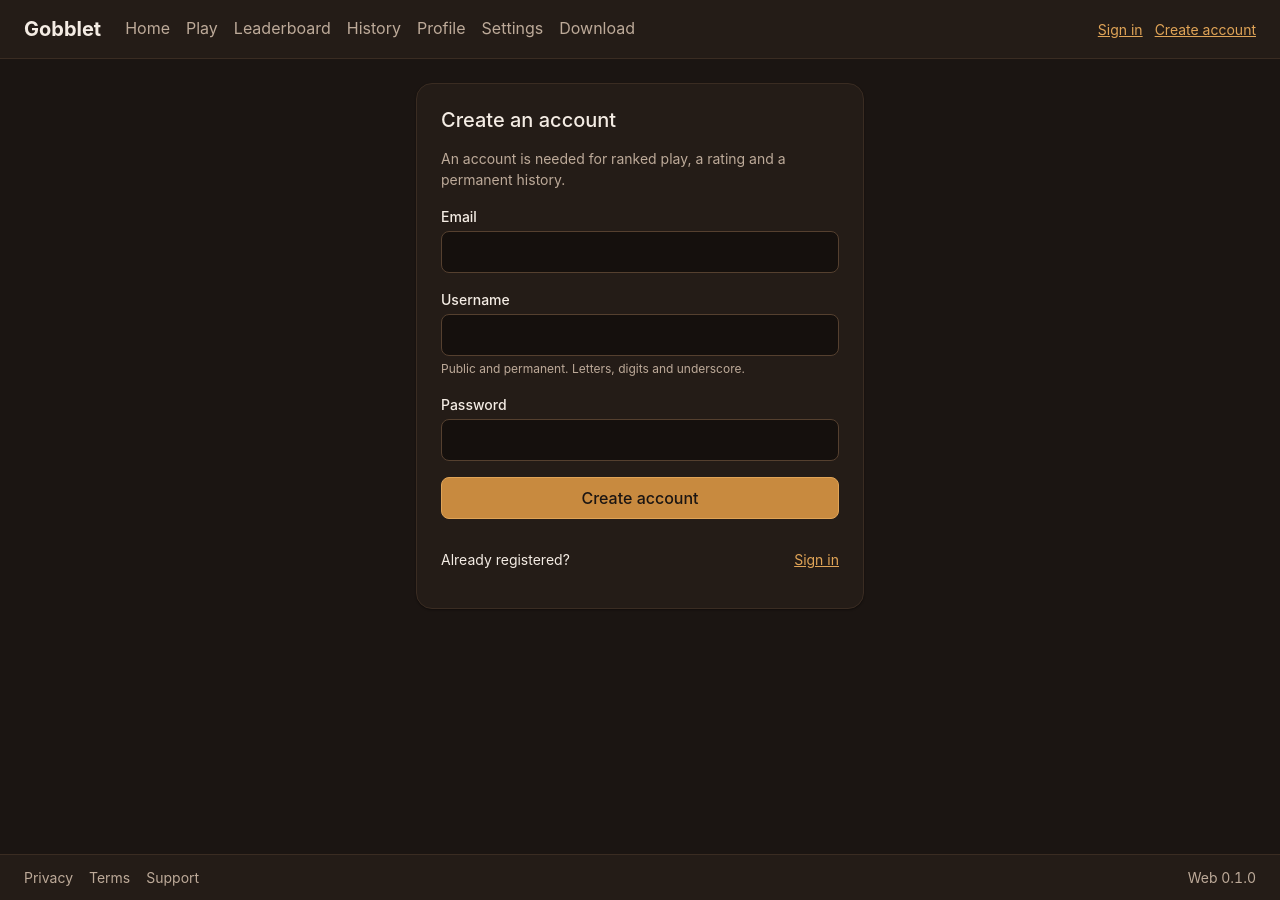
Scenario: registration › names only the field that is wrong
Type "ada@example.com" into the field labelled "Email" at (640, 252), box [441,231,839,273]
Type "ada" into the field labelled "Username" at (640, 335), box [441,314,839,356]
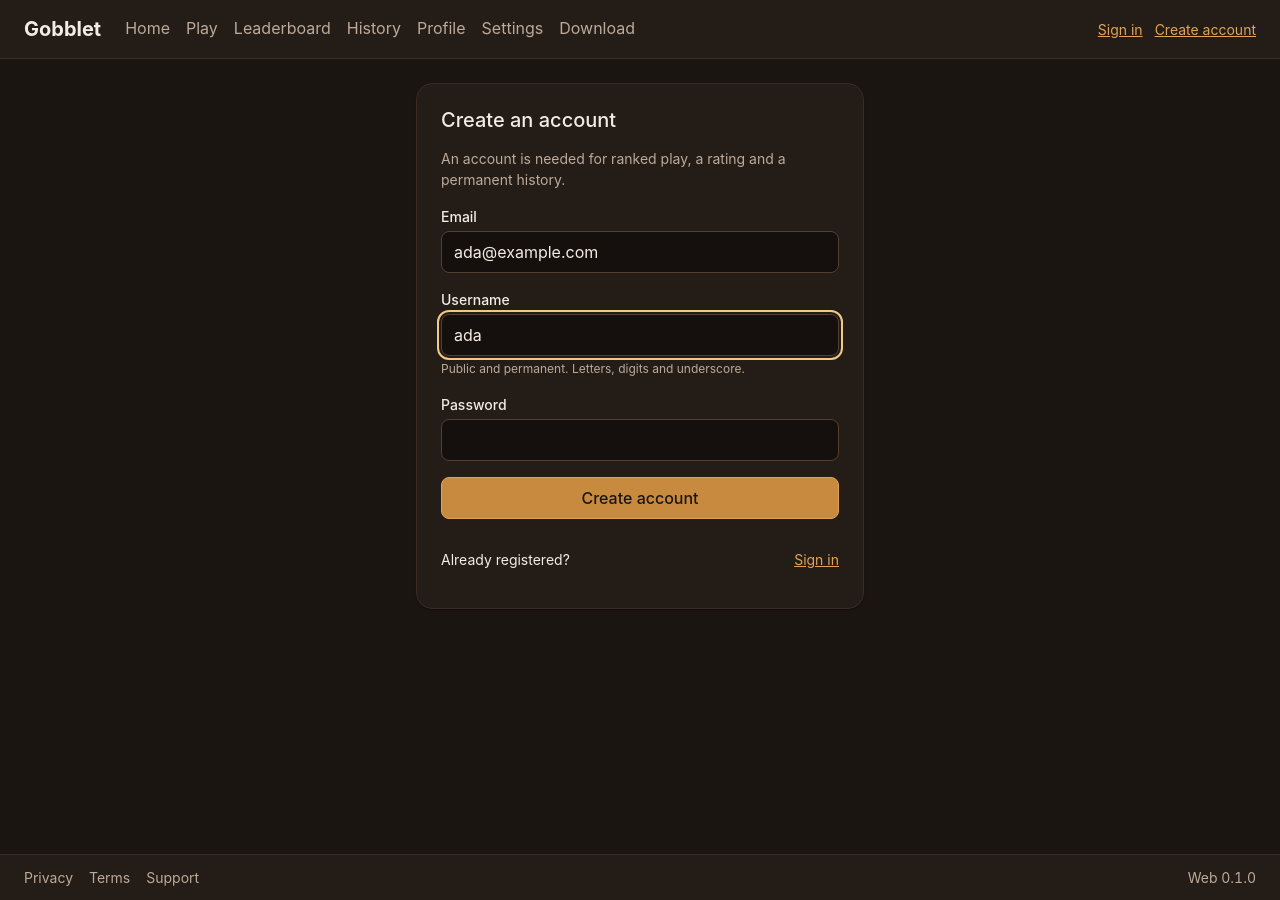
Type "tiny" into the password field labelled "Password" at (640, 440), box [441,419,839,461]
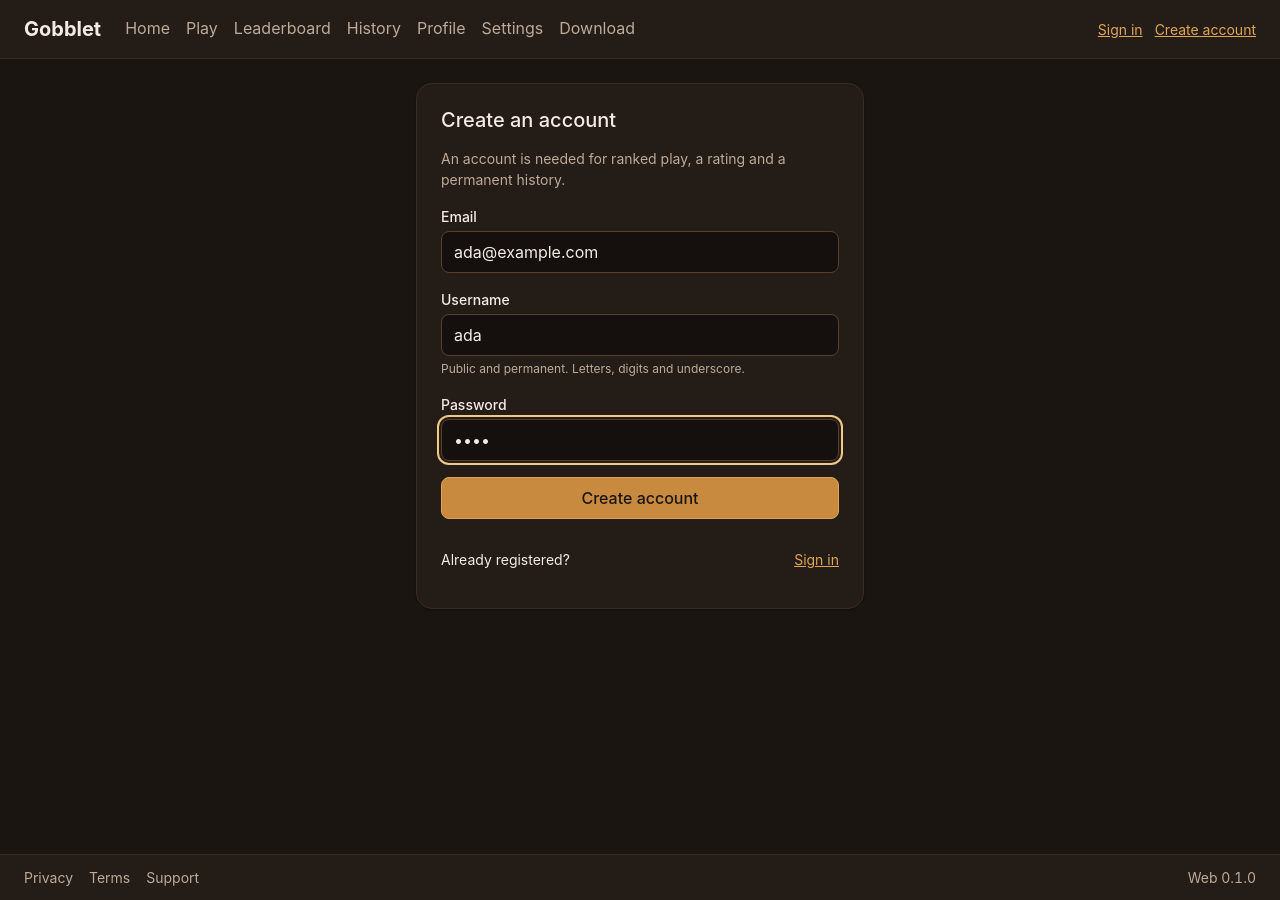
Click the button with test id "register-submit" at (640, 498), box [441,477,839,519]
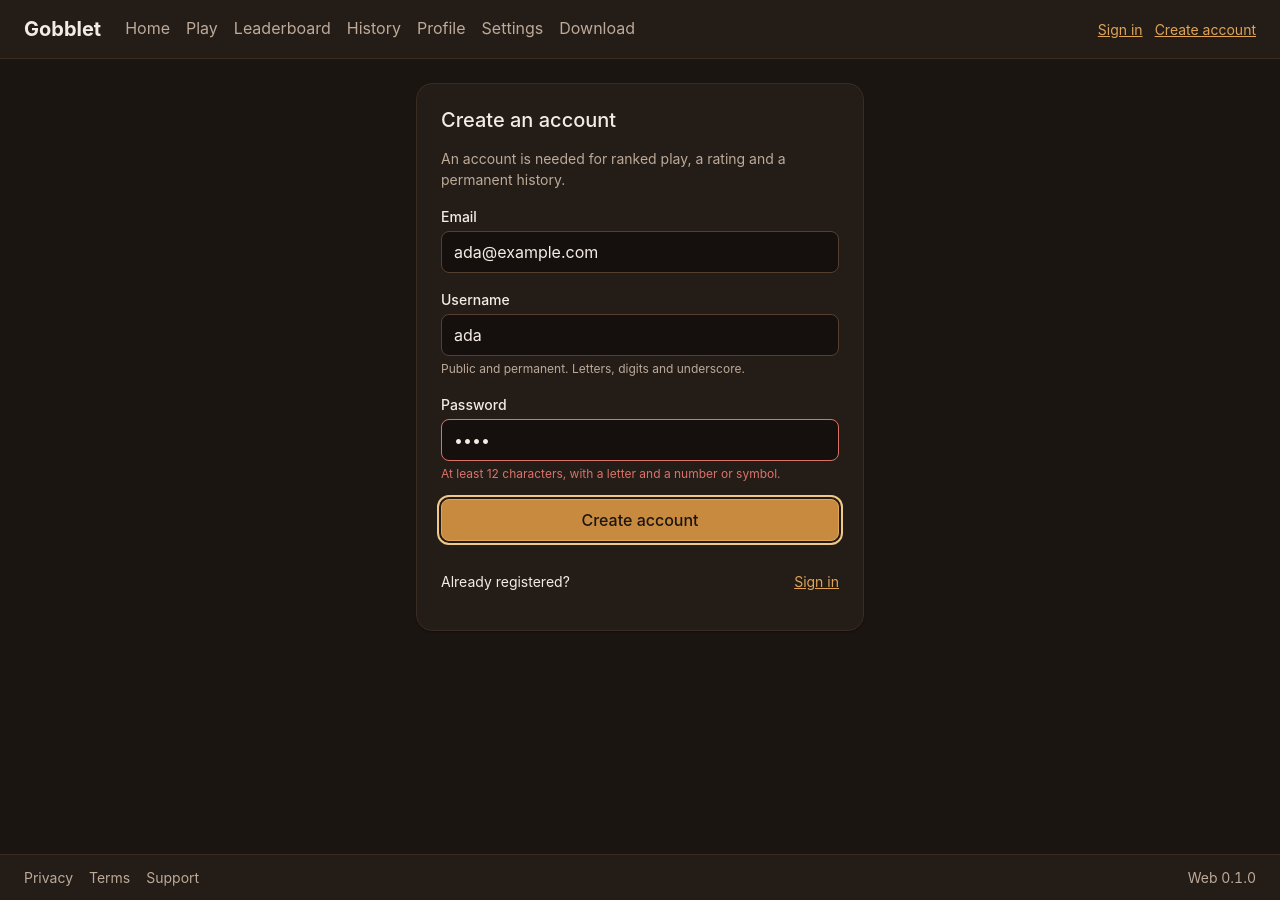
Expected: the text "Enter a valid email address." is not shown
Expected: the text "At least 12 characters" is shown, [441,466,780,481]
Type " but long enough 1" into the password field labelled "Password" at (640, 440), box [441,419,839,461]
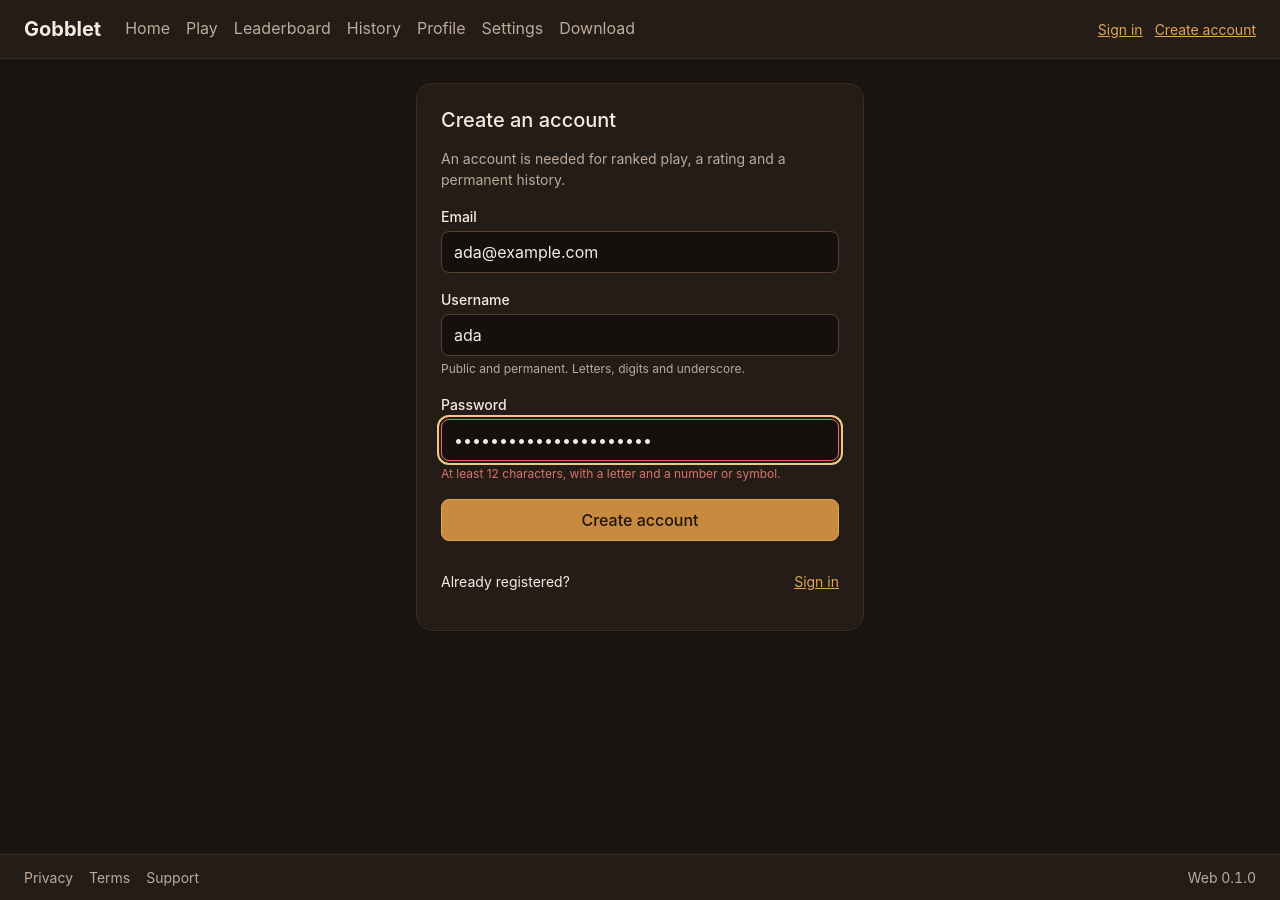
Clear the field labelled "Email" at (640, 252), box [441,231,839,273]
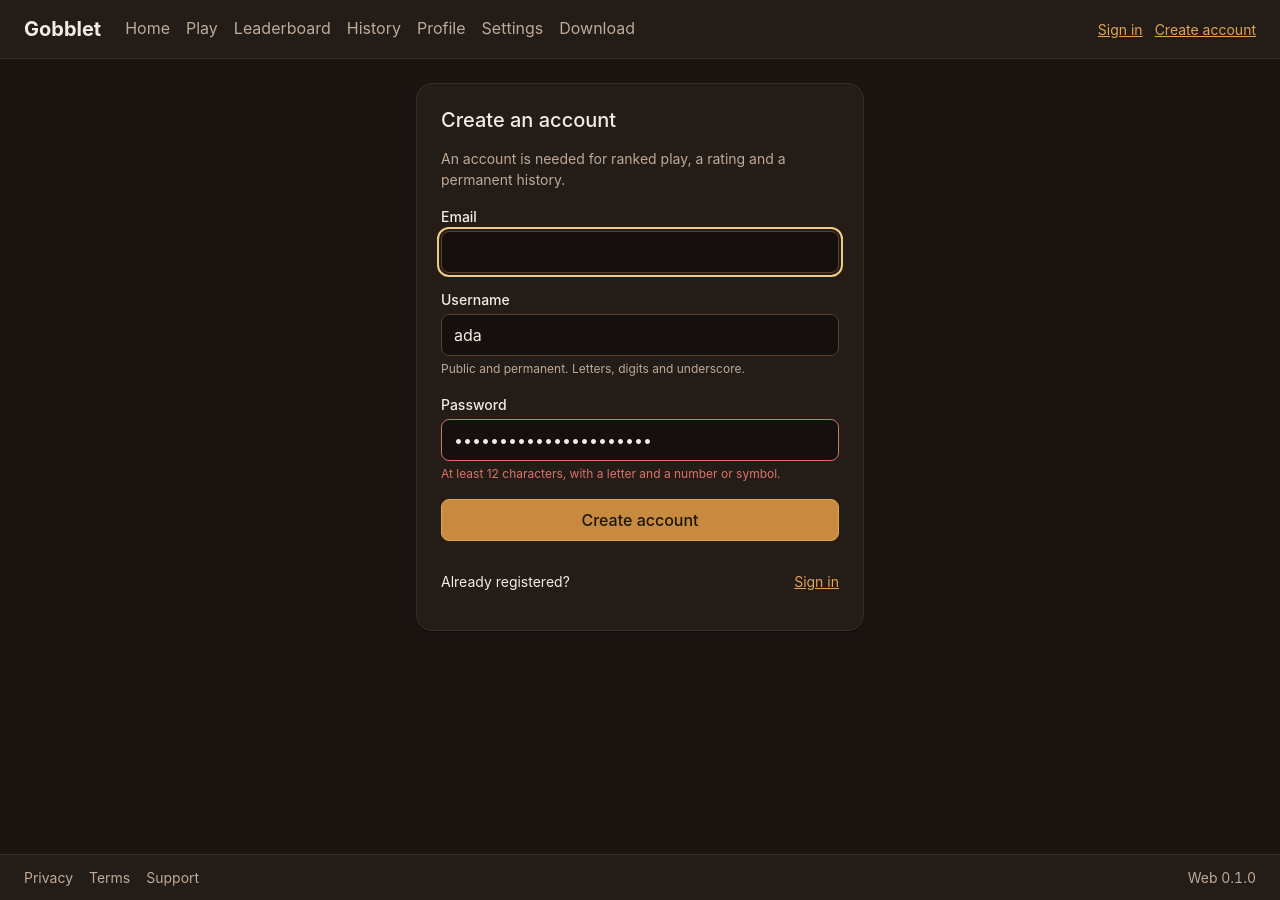
Click the button with test id "register-submit" at (640, 520), box [441,499,839,541]
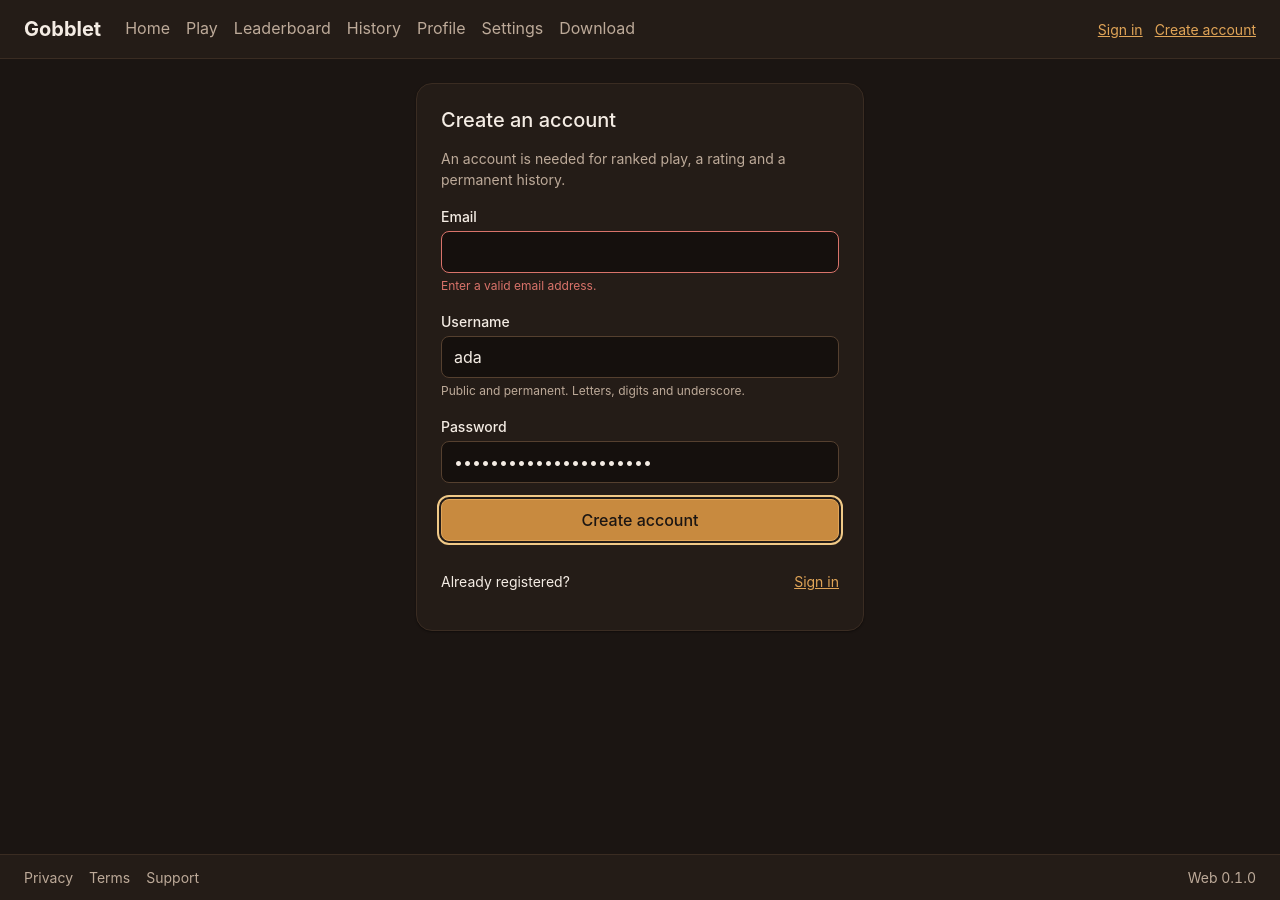
Expected: the text "Enter a valid email address." is shown, [441,278,596,293]
Expected: the text "At least 12 characters" is gone
